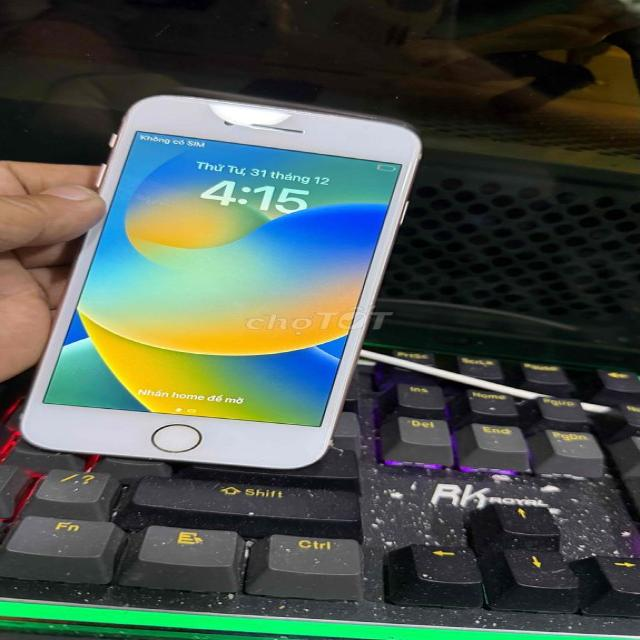gen_7_8: (22, 96, 421, 469)
